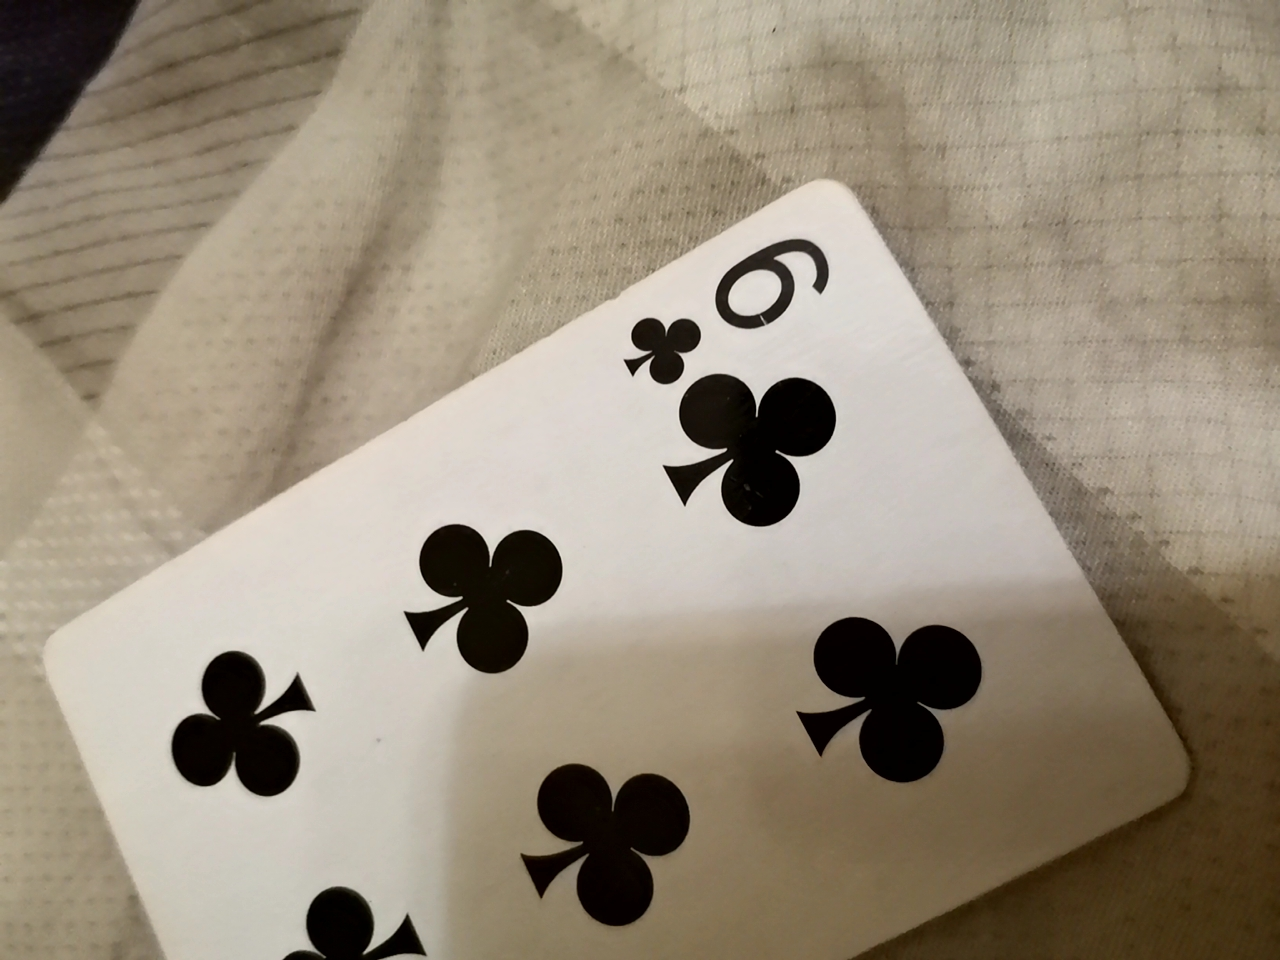mh 6: (21, 179, 1197, 954)
